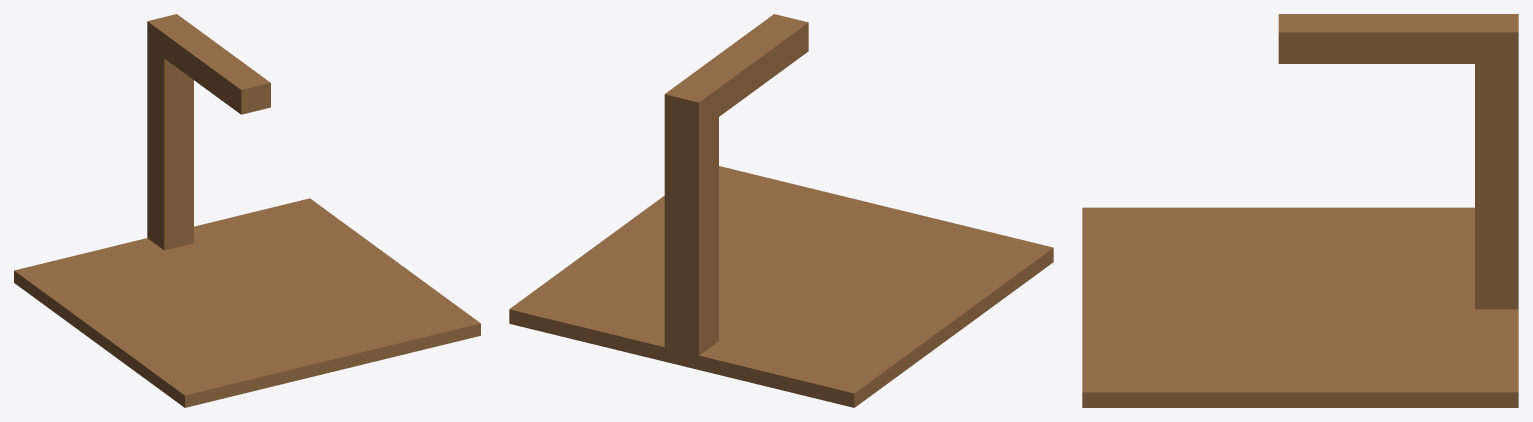
File: table-half.fbx
3 views of the same model, side by side, from view 1: azimuth 30°, elevation 25°; view 2: azimuth 150°, elevation 25°; view 3: azimuth 270°, elevation 25° (orthographic). The views are drawn at different scales.
Visible parts, largest first — view 1: table_half; view 2: table_half; view 3: table_half.
Part boxes in pixels (x1,y1,x2,y2): table_half: (14,14,480,407); table_half: (509,14,1053,407); table_half: (1082,14,1518,407).
Bounding box in the file's own units: 100 × 74 × 100.
